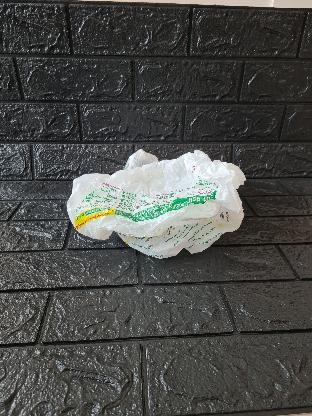Plastic Bag: (64, 148, 250, 256)
